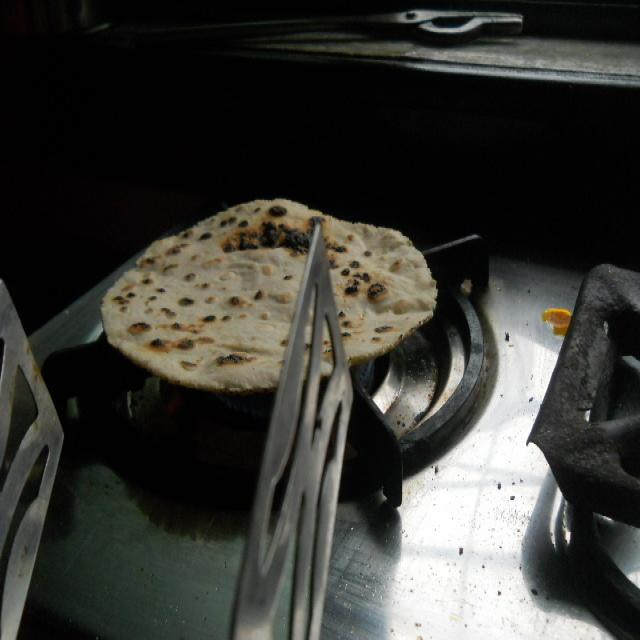RICE BHAKRI: (102, 199, 437, 391)
ROTI: (324, 219, 435, 359)
